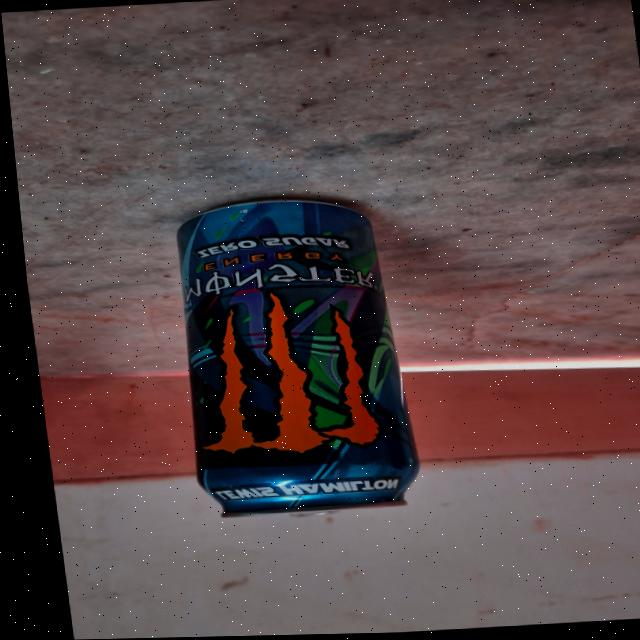Monster LH44: (132, 183, 436, 543)
